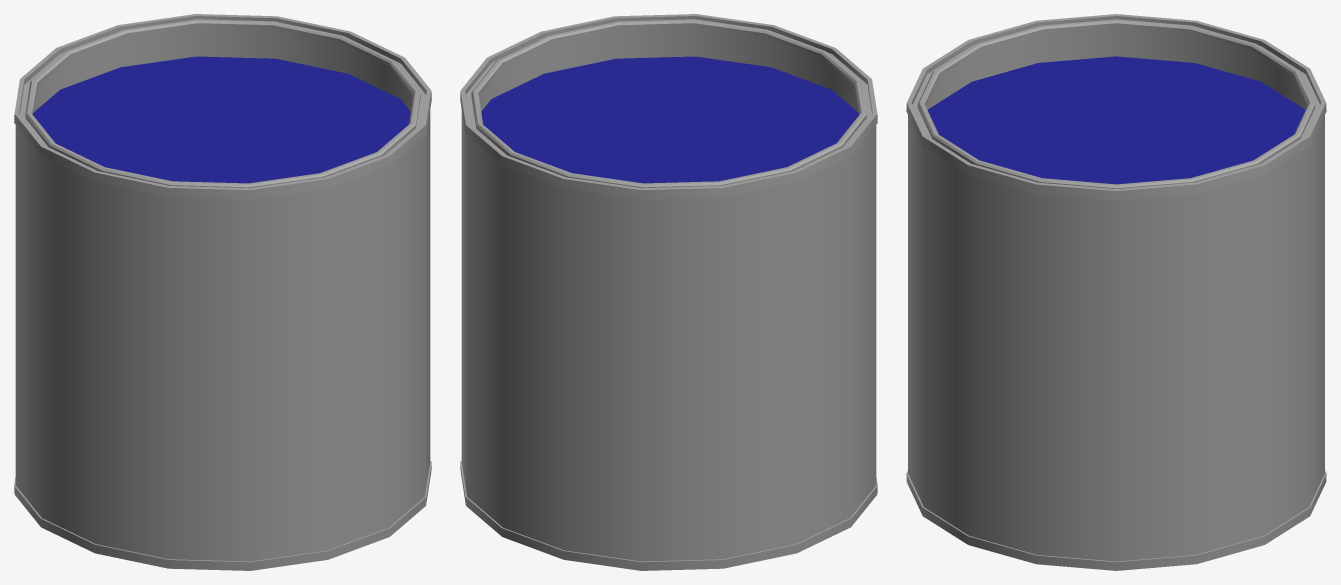
The model's file is PaintCan_Blue.fbx.
The picture shows the model from 3 angles, left to right: view 1: azimuth 30°, elevation 25°; view 2: azimuth 150°, elevation 25°; view 3: azimuth 270°, elevation 25°; orthographic projection.
Visible parts, largest first — view 1: Cylinder, Cylinder.001; view 2: Cylinder, Cylinder.001; view 3: Cylinder, Cylinder.001.
Boxes of the visible parts, box(x1,y1,x2,y2) form: Cylinder: box(14, 14, 431, 570); Cylinder.001: box(33, 56, 410, 183); Cylinder: box(460, 14, 877, 570); Cylinder.001: box(481, 56, 858, 183); Cylinder: box(906, 14, 1326, 570); Cylinder.001: box(927, 56, 1305, 184).
Bounding box in the file's own units: 40.32 × 40.22 × 40.32.
